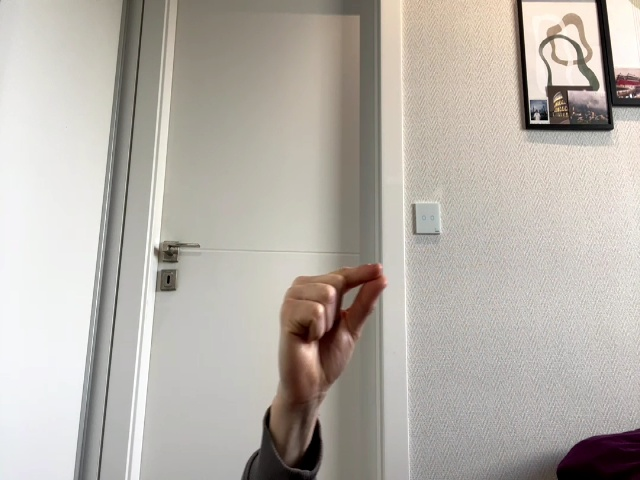P: (278, 264, 387, 400)
